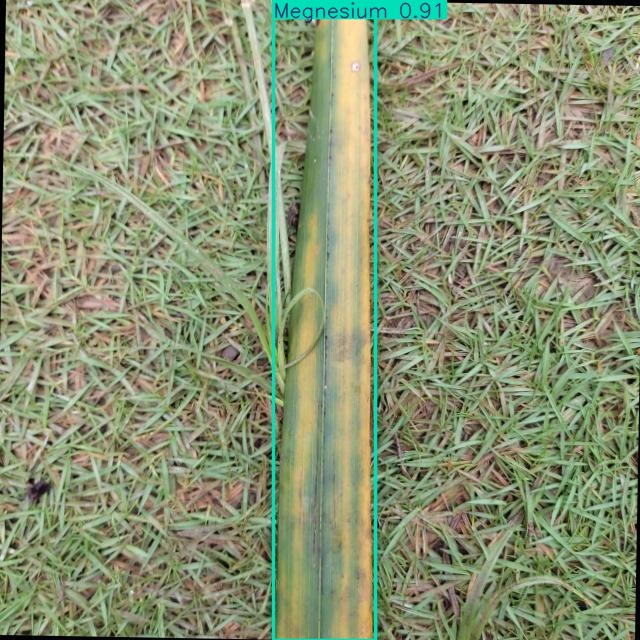Megnesium: (273, 0, 375, 640)
